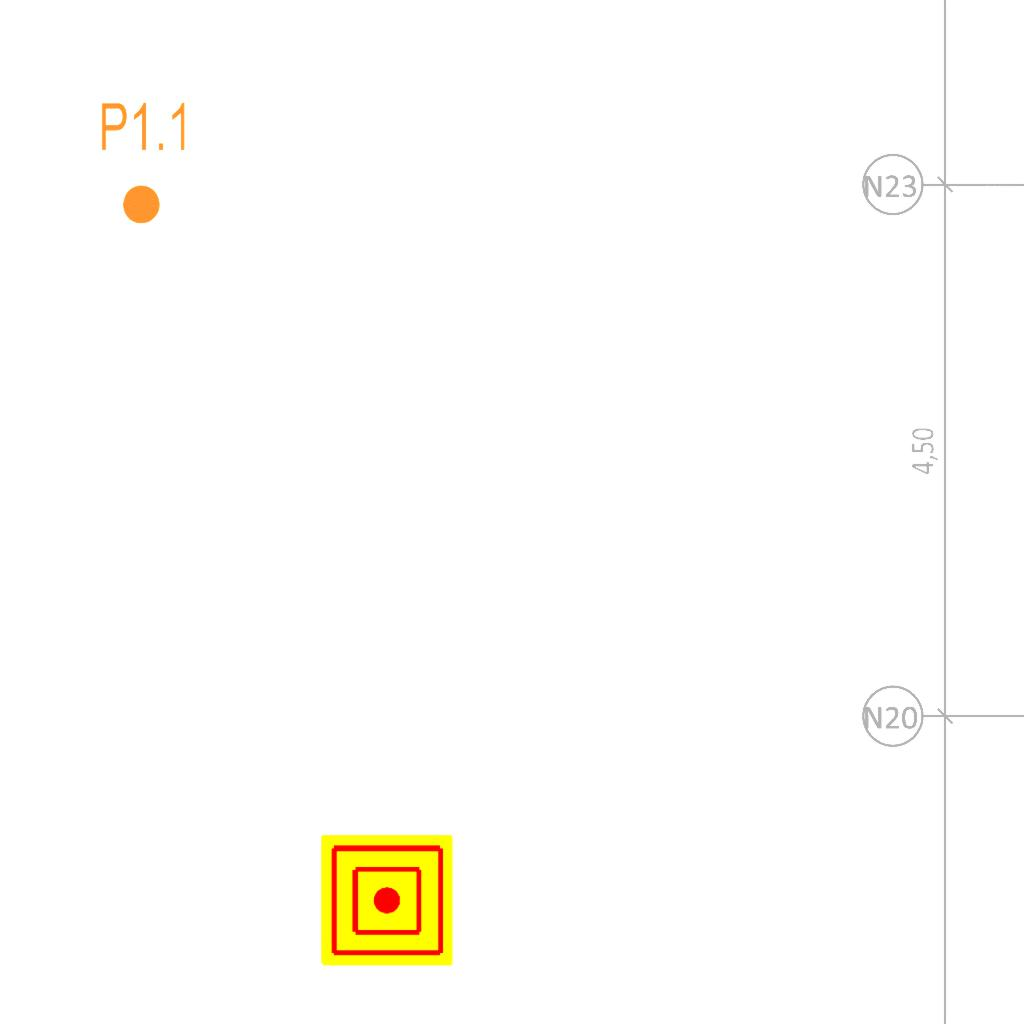Downlight_LED_Einbauleuchten_Flur: (98, 99, 191, 227)
NAM-Nichtautomatischer_Melder: (321, 834, 453, 966)
